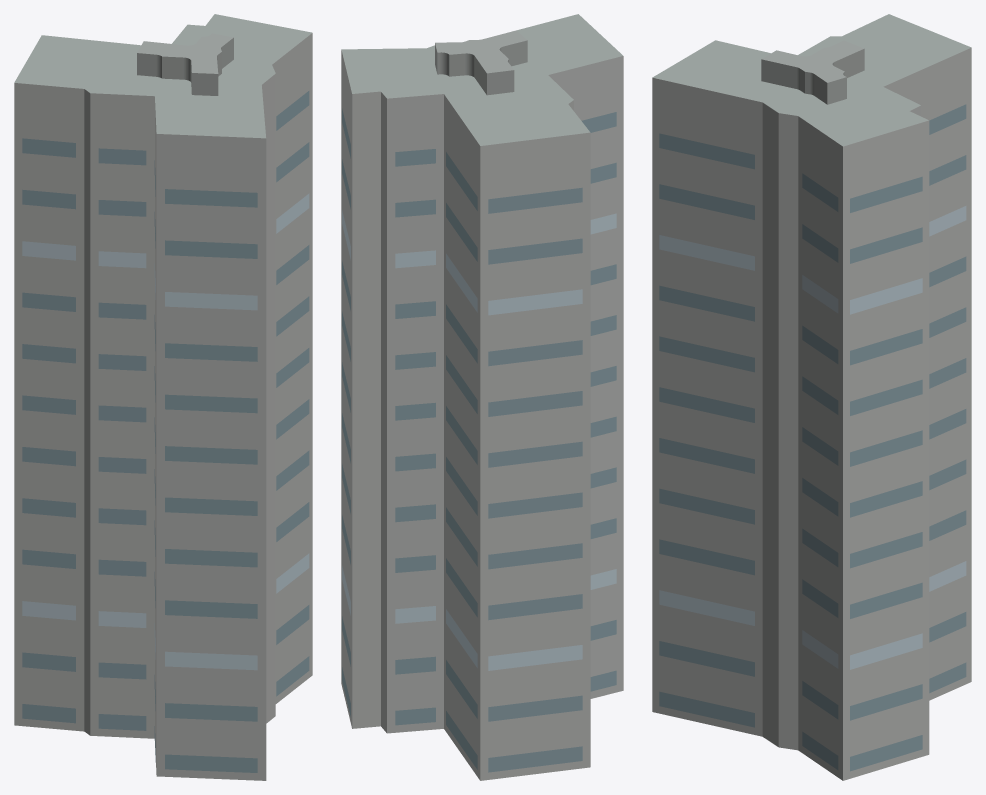
Rendered from fallback-gangdong-lotte-castle-first-125.glb.
3 renders of one model, left to right at view 1: azimuth 30°, elevation 25°; view 2: azimuth 150°, elevation 25°; view 3: azimuth 270°, elevation 25°, orthographic.
Visible parts, largest first — view 1: fallback-gangdong-lotte-castle-first-125; view 2: fallback-gangdong-lotte-castle-first-125; view 3: fallback-gangdong-lotte-castle-first-125.
Boxes of the visible parts, <box> form: fallback-gangdong-lotte-castle-first-125: <box>14,14,312,780</box>; fallback-gangdong-lotte-castle-first-125: <box>341,14,623,780</box>; fallback-gangdong-lotte-castle-first-125: <box>652,14,971,780</box>.
Size of the model in its own units: 31.21 by 72 by 31.78.
